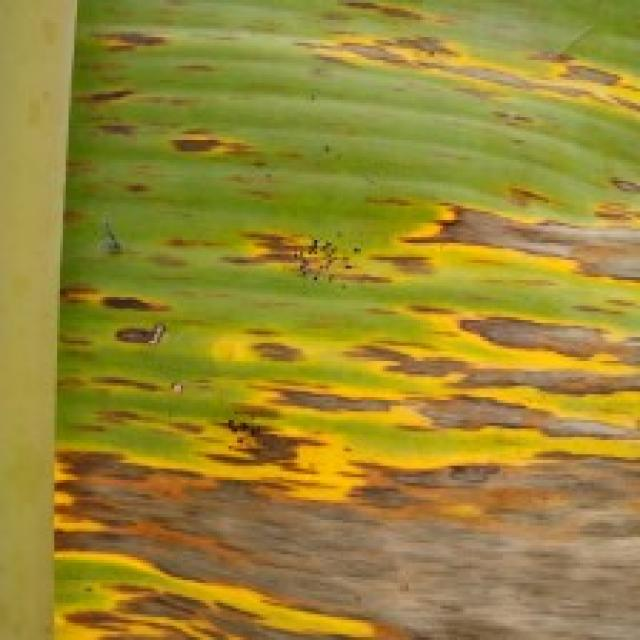Early_leaf_spot: (38, 0, 640, 640), (280, 0, 640, 117), (400, 152, 640, 294), (49, 241, 174, 401), (200, 196, 392, 292), (70, 72, 258, 160), (74, 0, 185, 71)
